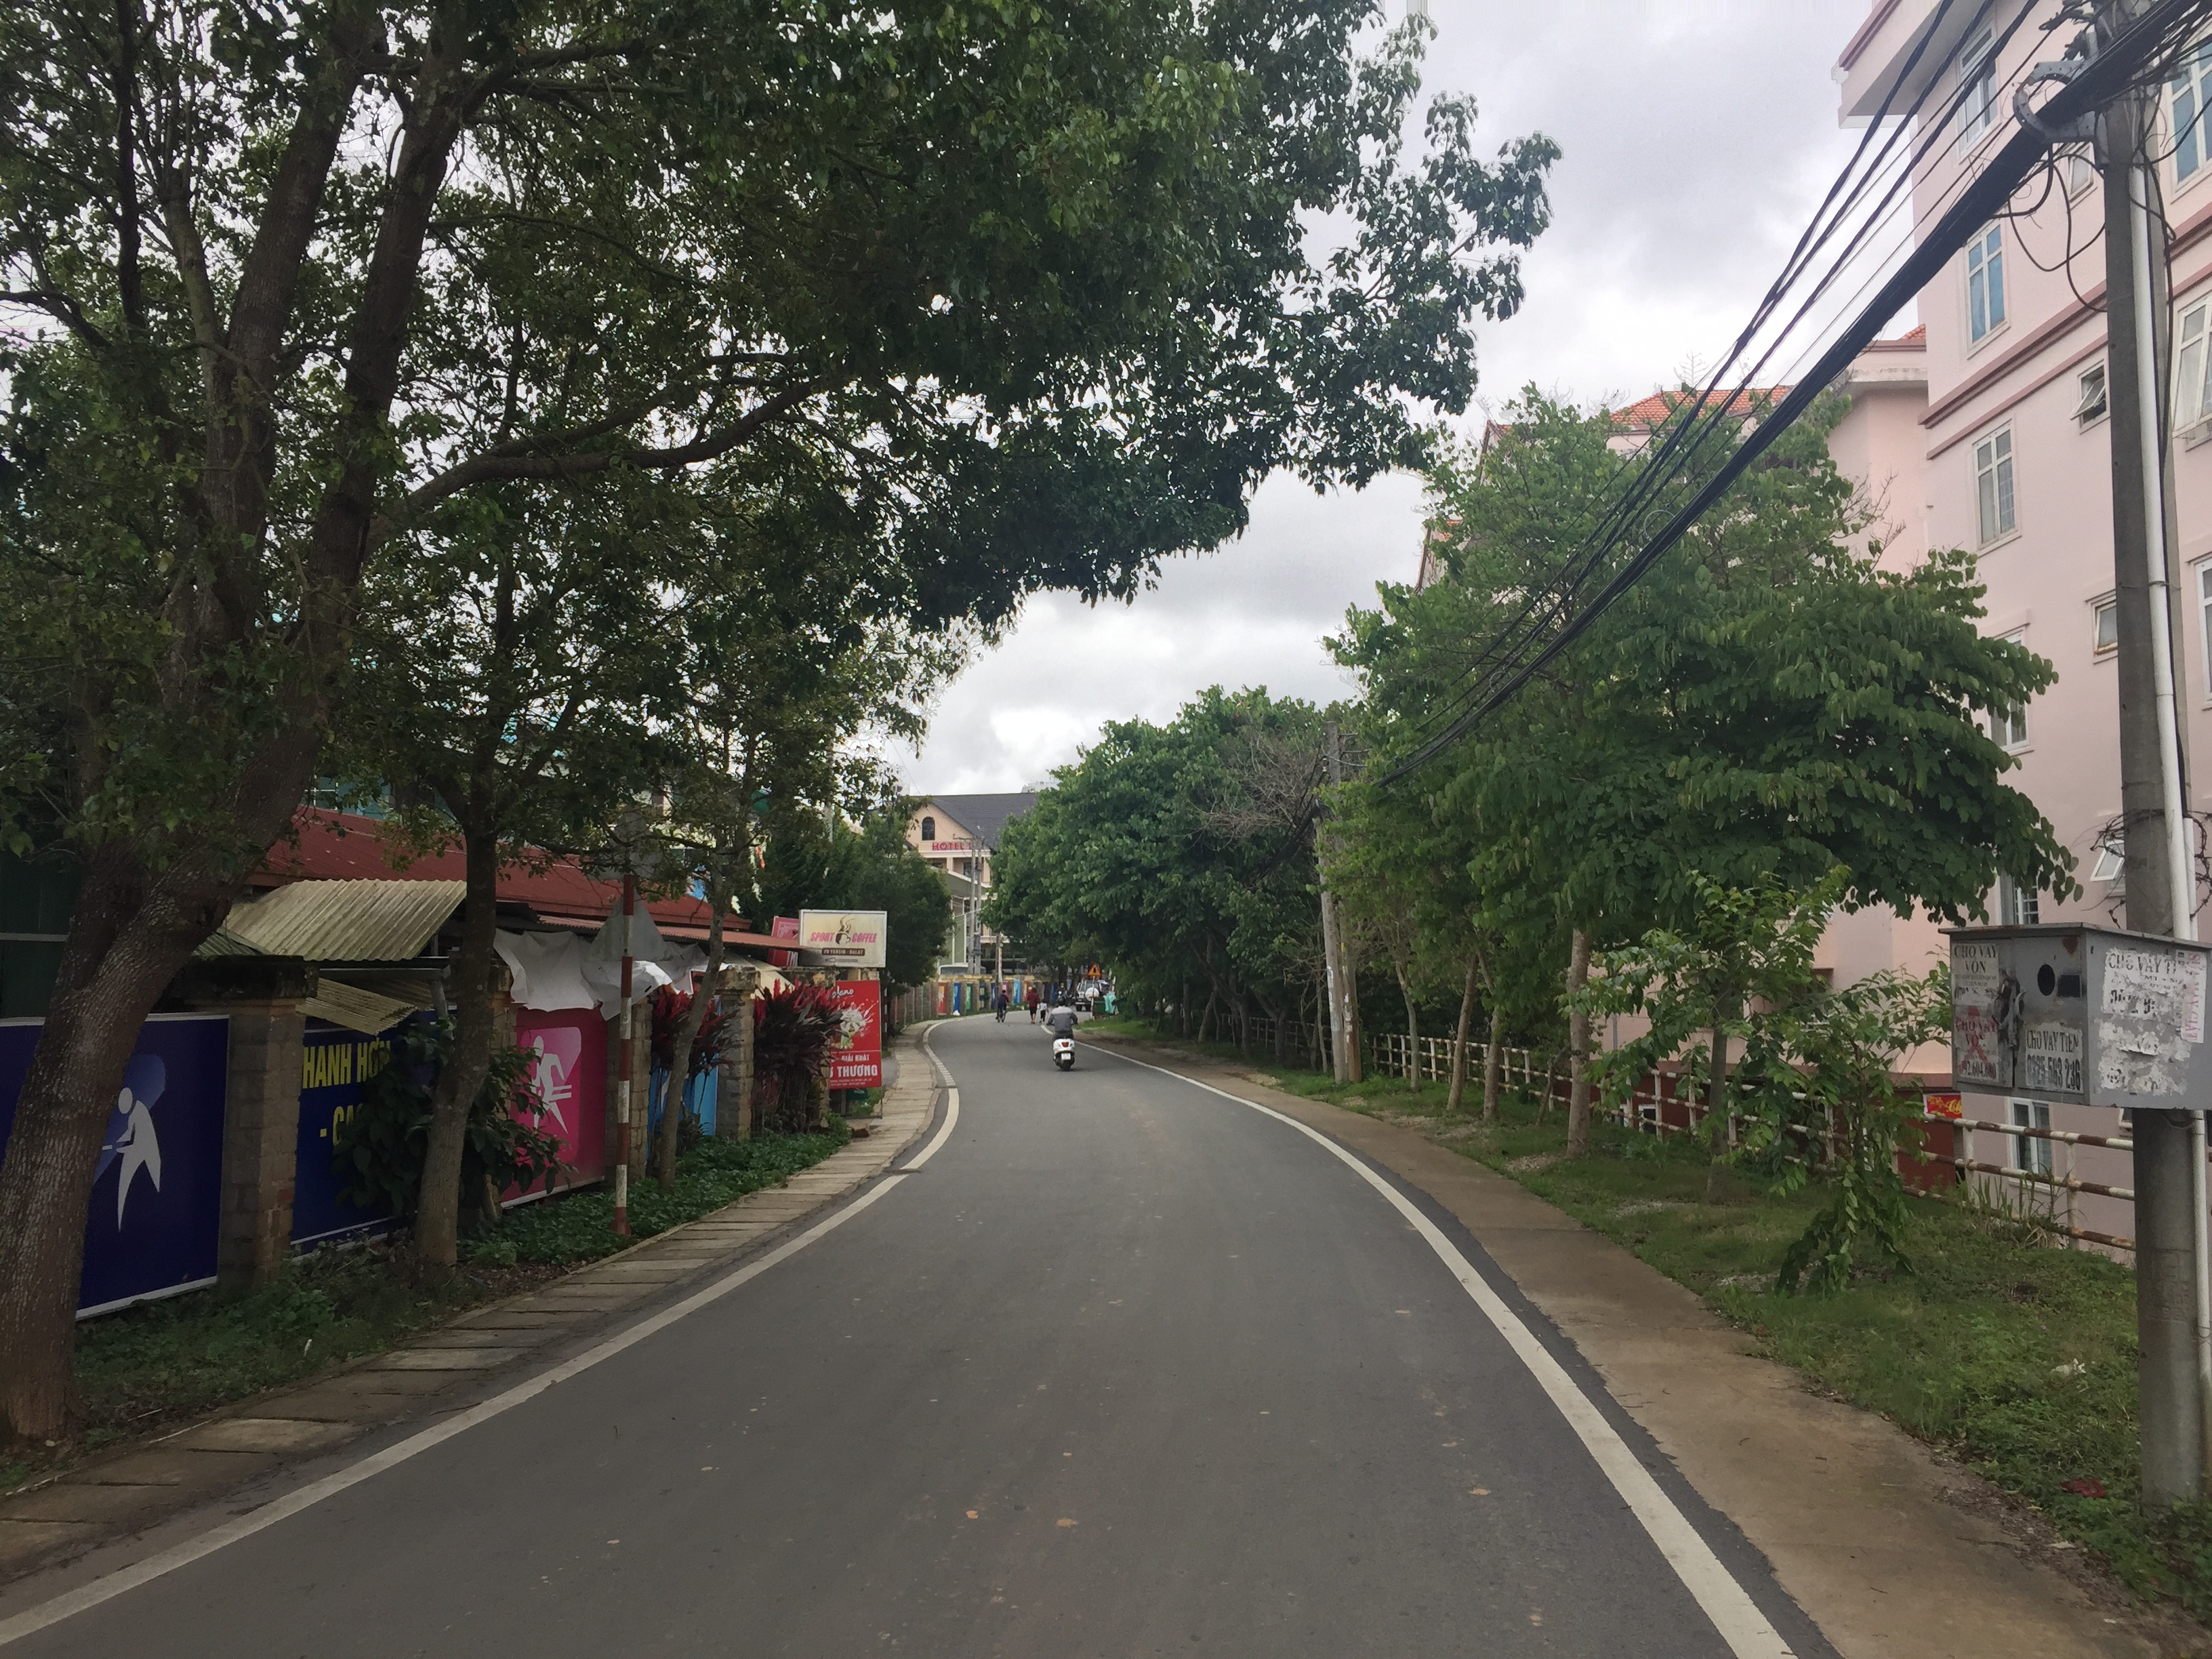hole: (887, 1168, 921, 1175)
